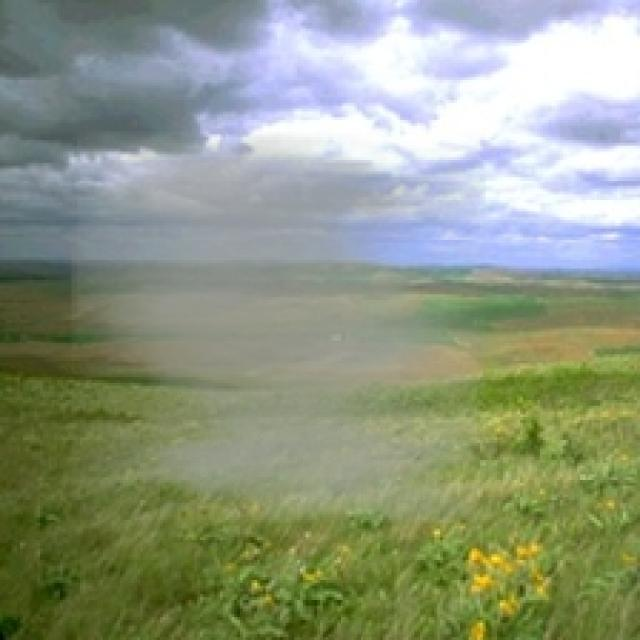smoke: (71, 131, 486, 523)
